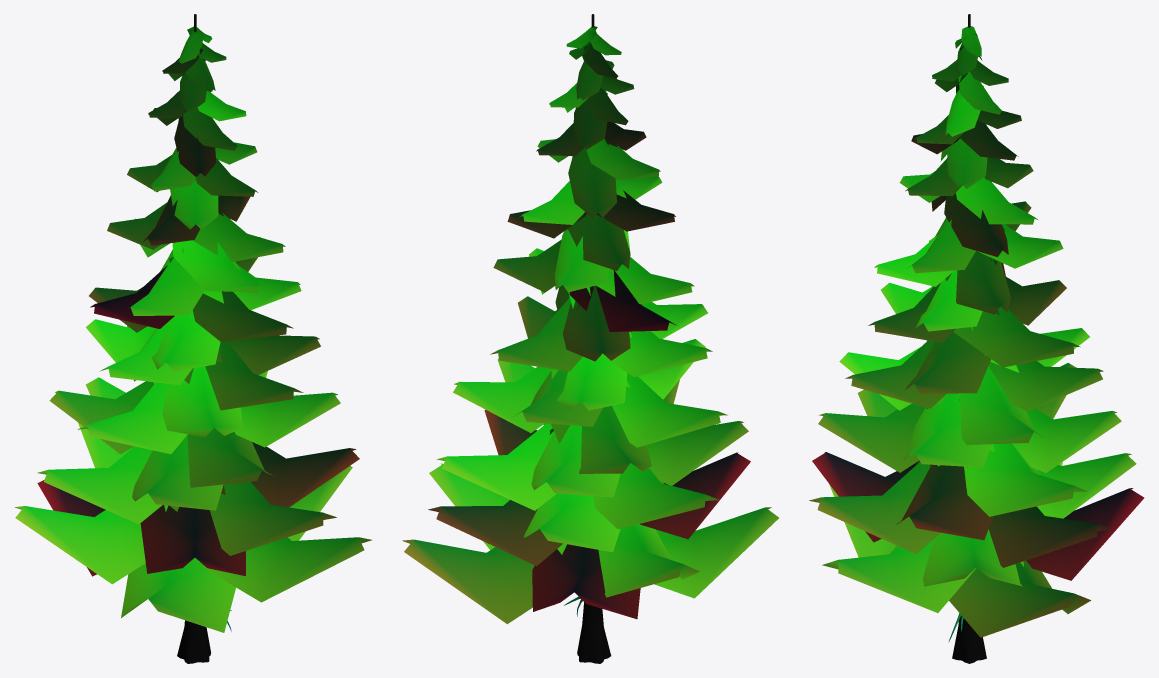
File: M_Pine_6_1.fbx
3 views of the same model, side by side, from view 1: azimuth 30°, elevation 25°; view 2: azimuth 150°, elevation 25°; view 3: azimuth 270°, elevation 25° (orthographic).
Parts seen in each view (by area): view 1: Tree_1; view 2: Tree_1; view 3: Tree_1.
Boxes of the visible parts, x1,y1,x2,y2 form: Tree_1: [15, 14, 371, 663]; Tree_1: [402, 14, 778, 663]; Tree_1: [809, 14, 1144, 663].
Bounding box in the file's own units: 1004 × 2065 × 980.
